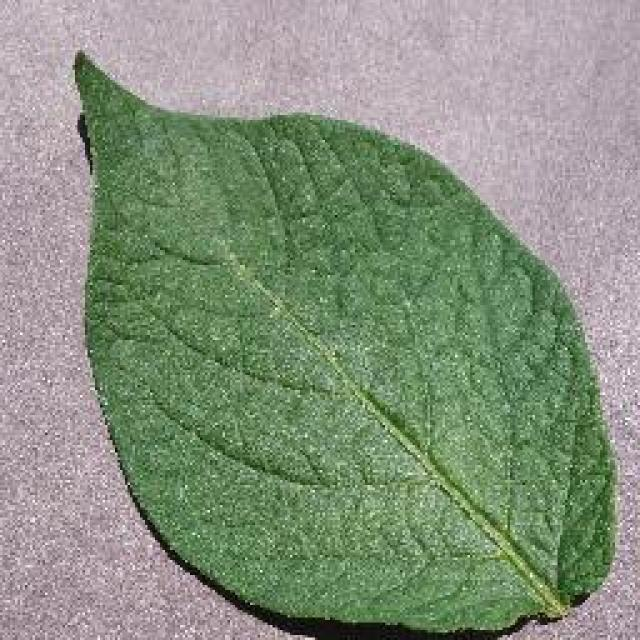healthy: (65, 45, 623, 637)
